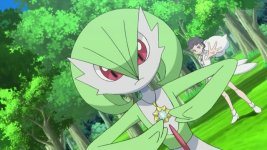gardevoir: (58, 6, 240, 150)
